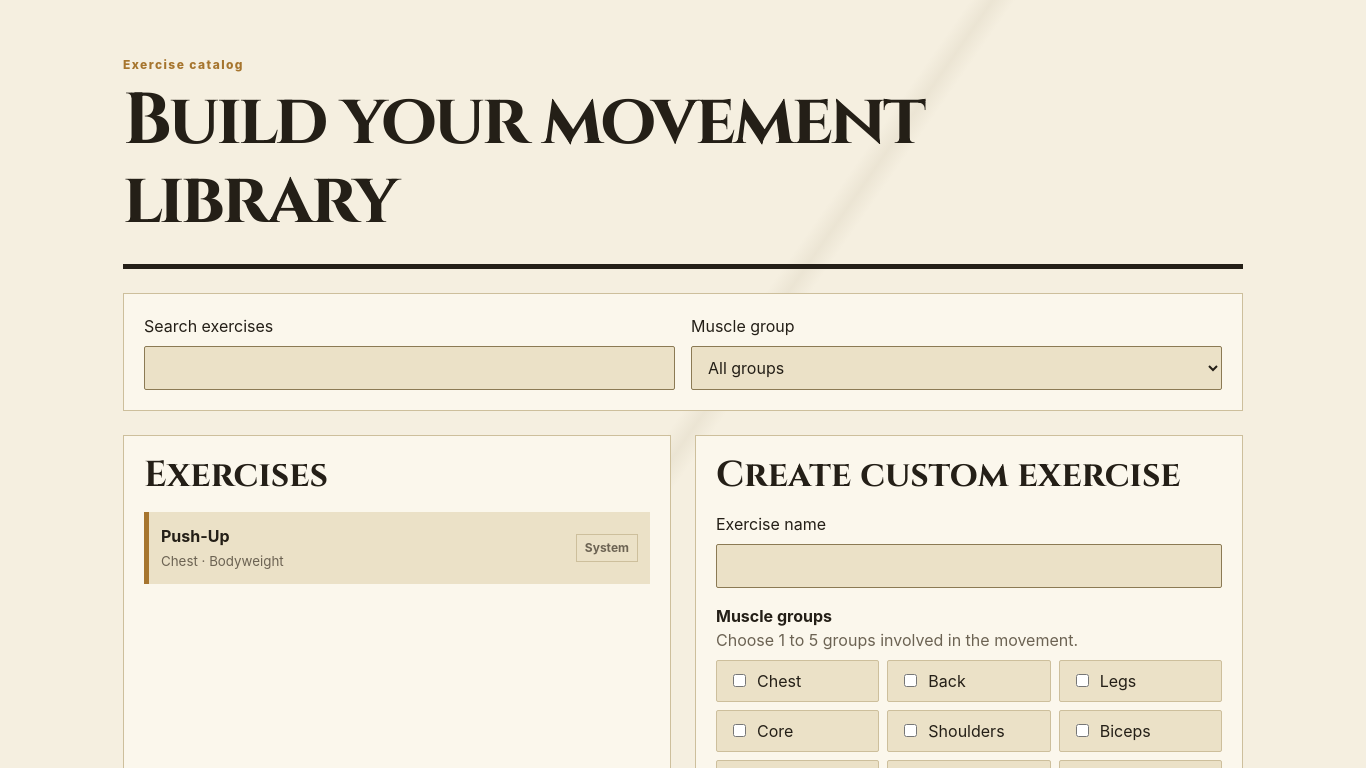
Test: Phase 4 planning UI › requires at least one muscle group
Type "Core hold" into the field labelled "Exercise name".
click(969, 566); type("Core hold")  # box [716,544,1222,588]
(page scrolled)
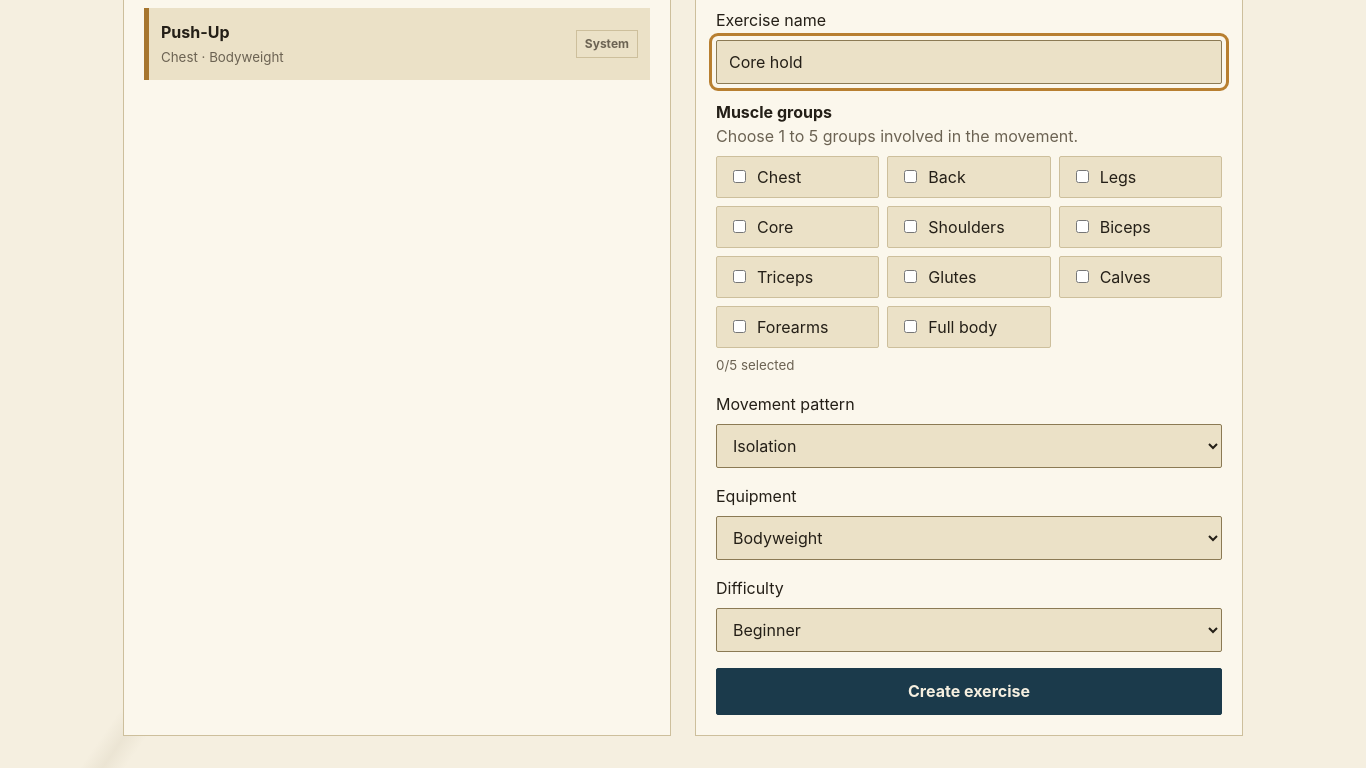
Click the button "Create exercise".
click(969, 691)  # box [716,668,1222,715]
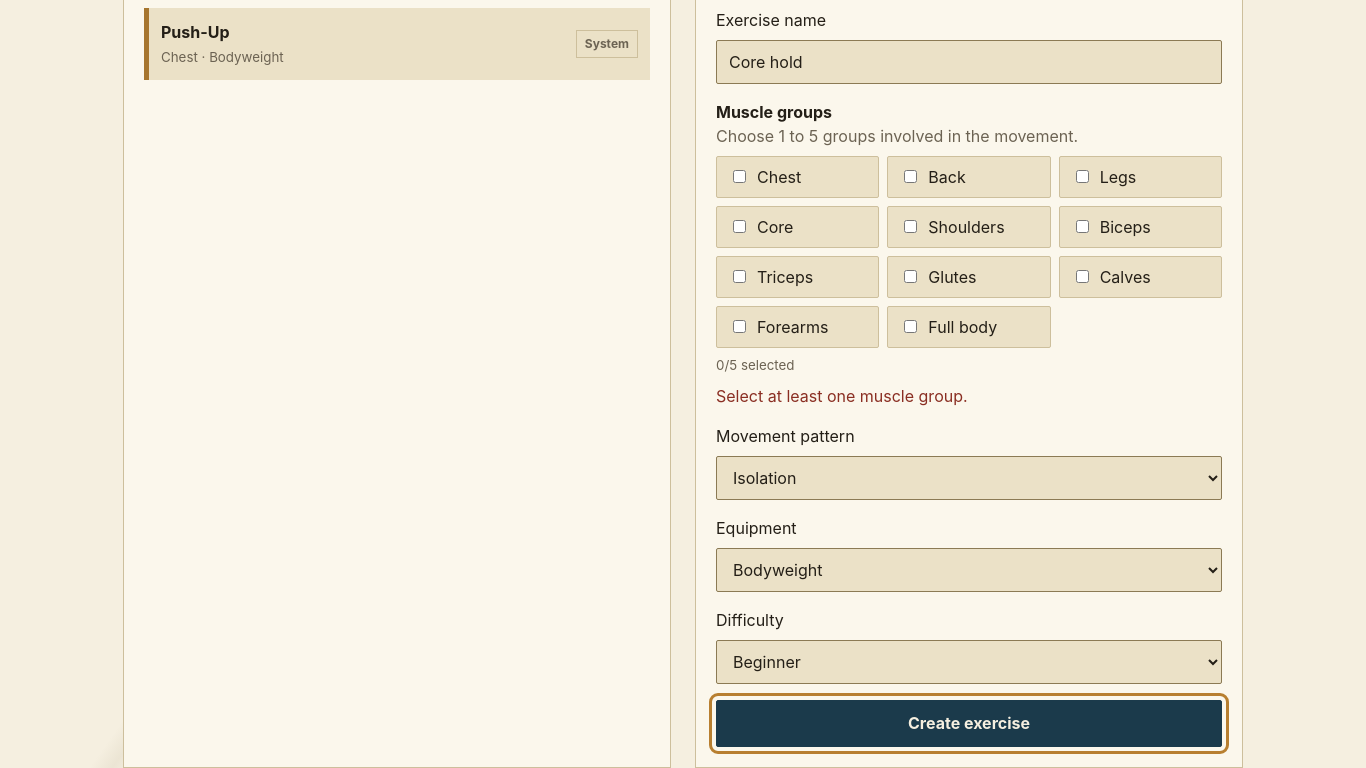
Now the message reads "Select at least one muscle group.", box [716,386,968,406]
